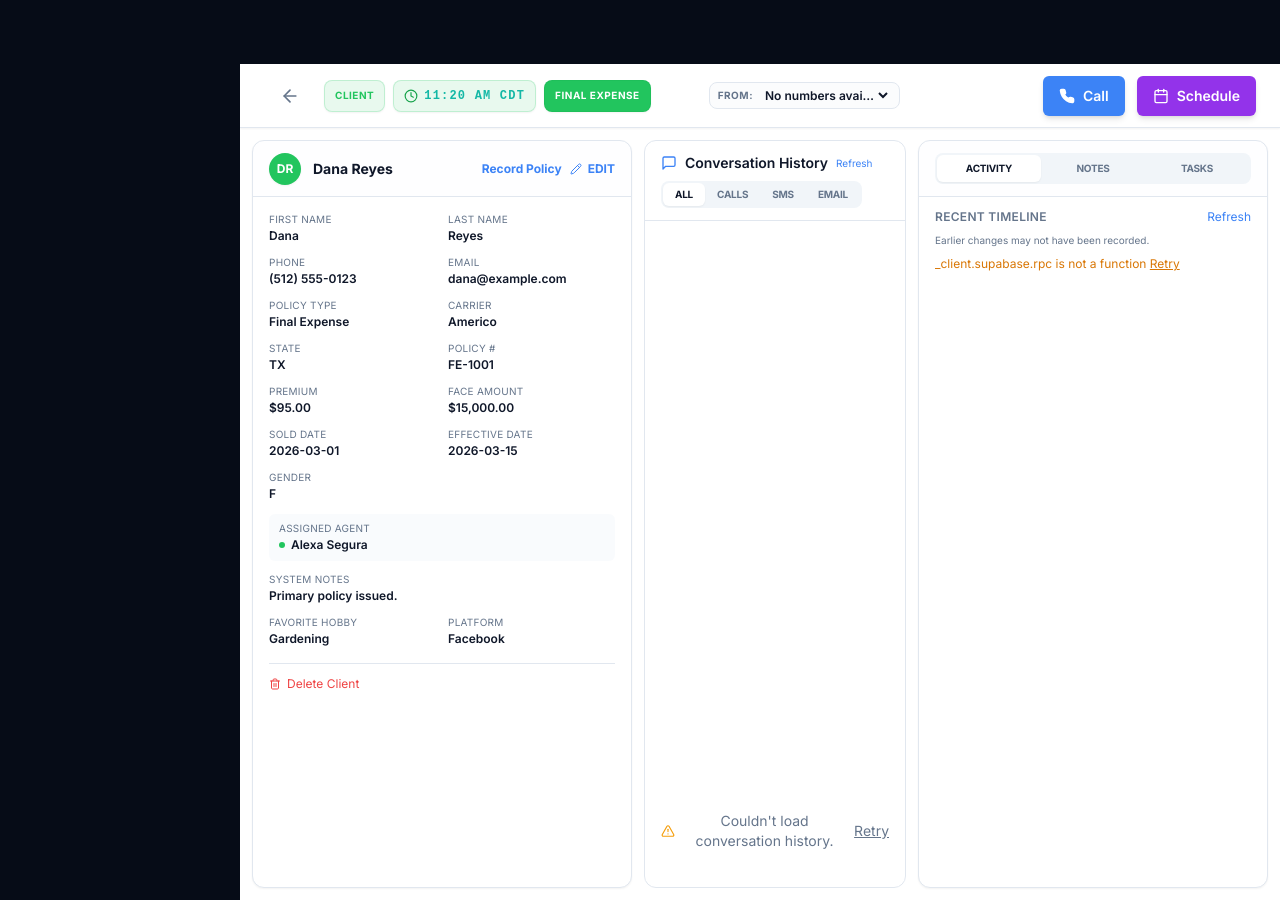
FullScreenContactView — ordinary custom fields are unaffected › a client with NO additional_policies still renders and saves its custom fields normally
The width and height of the screenshot is (1280, 900).
expect the text "Gender" is shown: met, box [269,471,311,483]
Click the button "EDIT" at (592, 168), box [570,160,615,176]
(page scrolled)
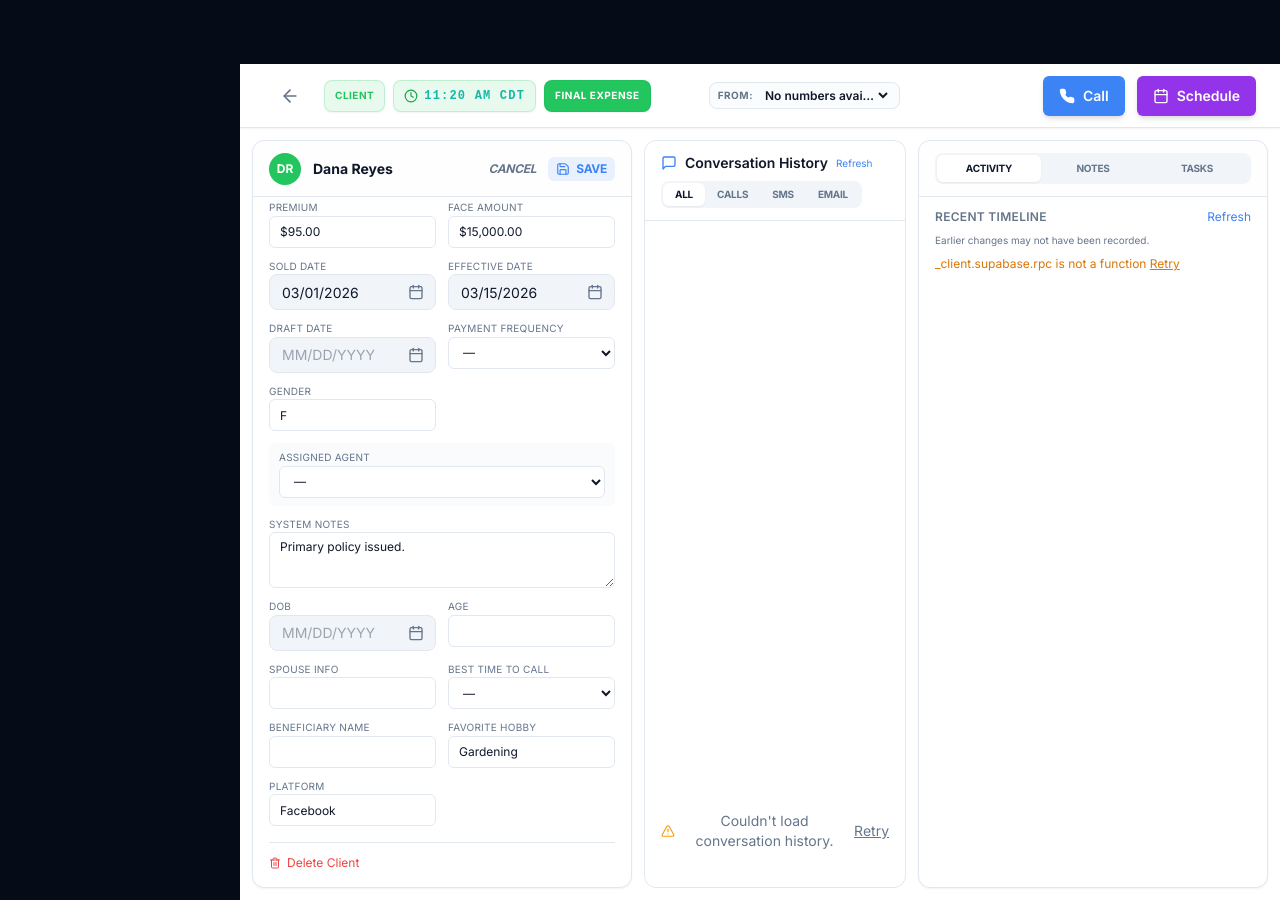
Replace the text in the field named "Platform" with "TikTok" at (352, 810), box [269,794,436,826]
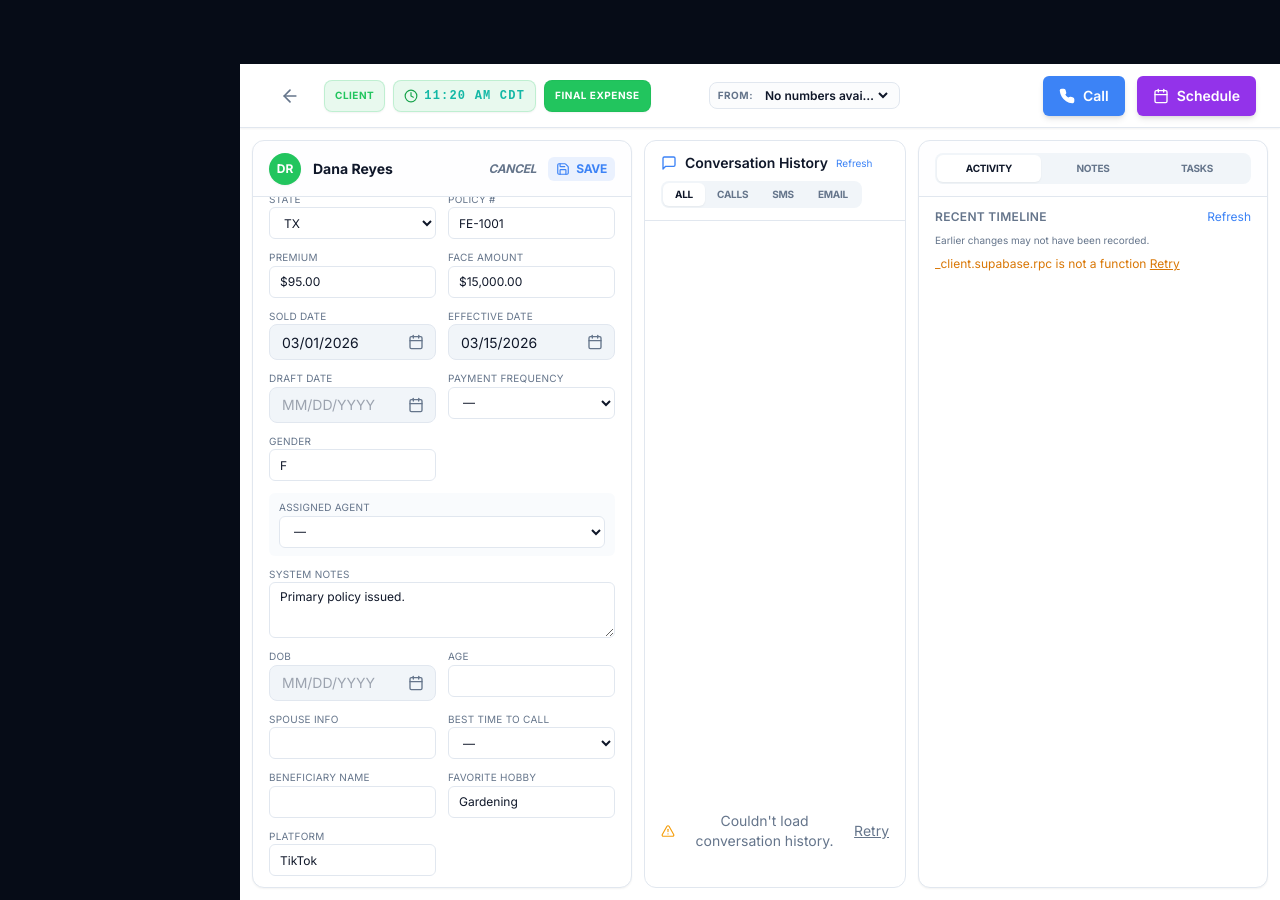
Click the button "SAVE" at (582, 168), box [548,156,615,180]
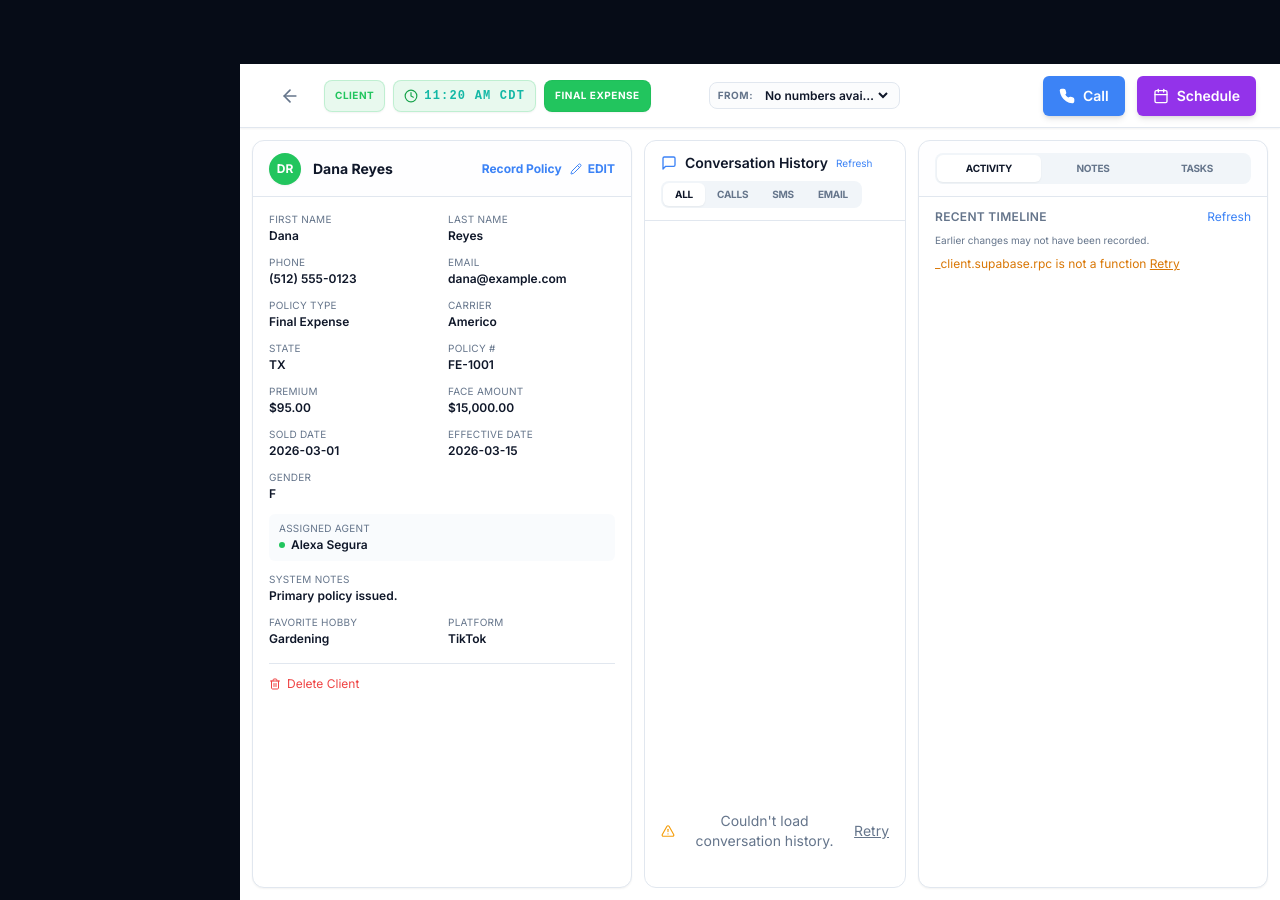
expect the text "TikTok" is shown: met, box [448,630,486,647]
